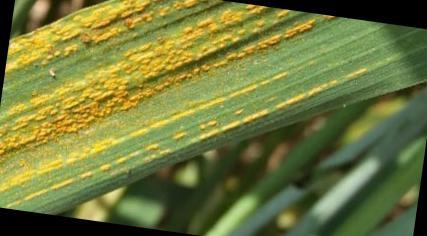Wheat: (31, 8, 303, 145), (28, 3, 191, 67)
